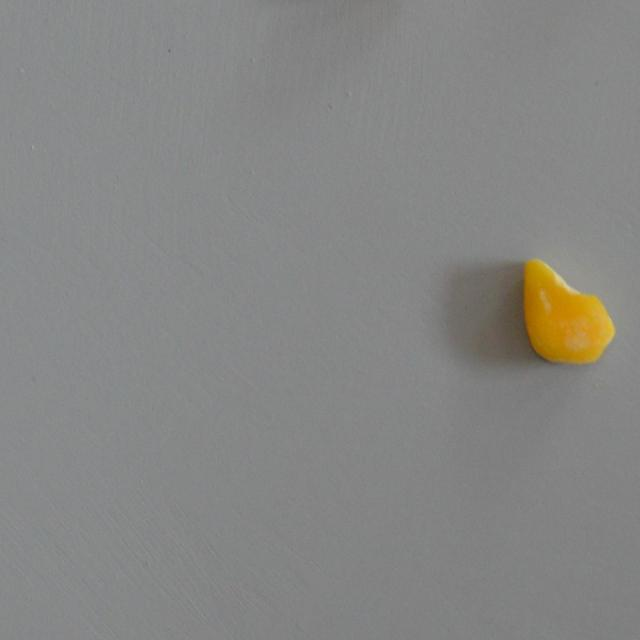pelicula: (520, 256, 620, 366)
